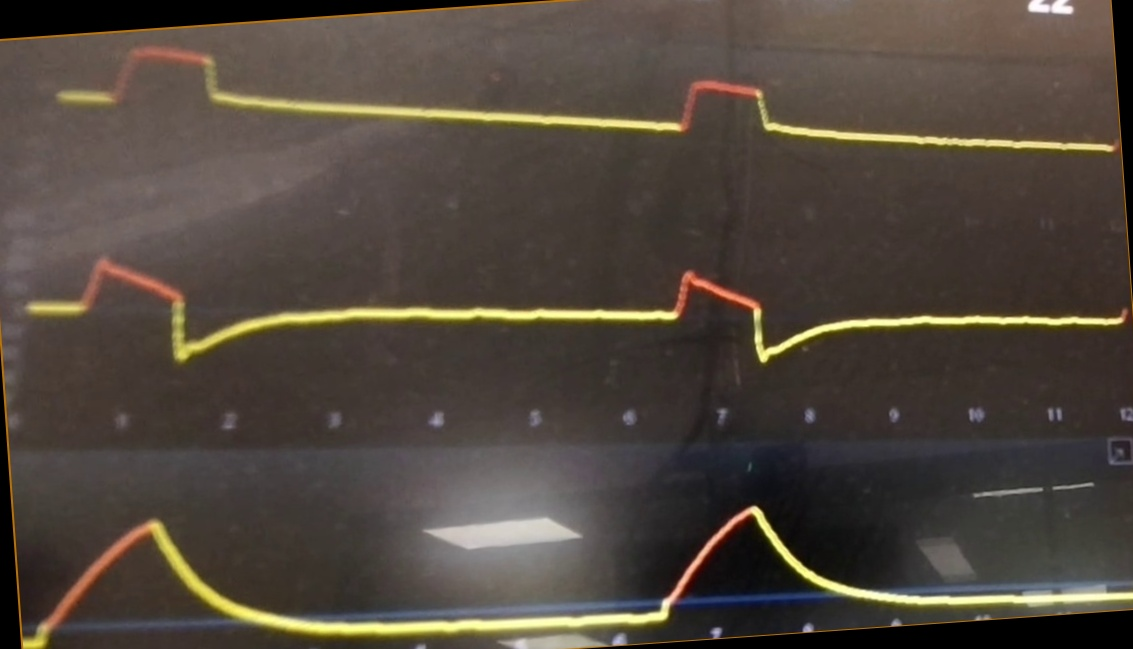Normal Flow: (30, 232, 1128, 367)
Normal Volume: (26, 494, 1127, 638)
